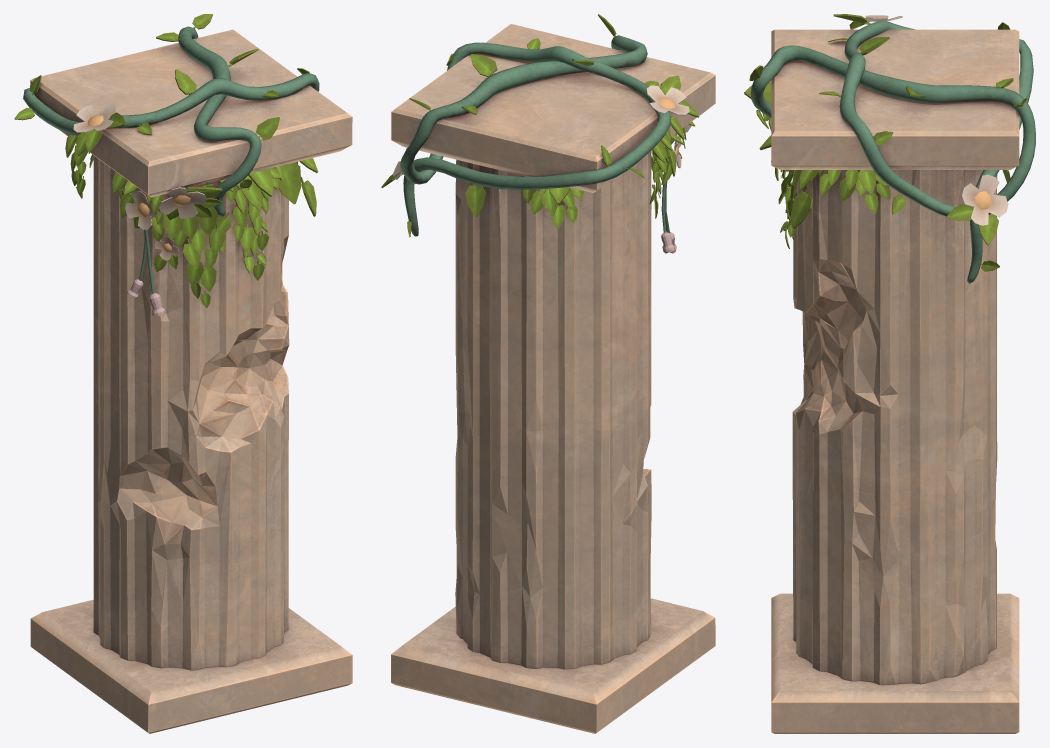
Rendered from pillar3.fbx.
The picture shows the model from 3 angles, left to right: view 1: azimuth 30°, elevation 25°; view 2: azimuth 150°, elevation 25°; view 3: azimuth 270°, elevation 25°; orthographic projection. The views are drawn at different scales.
Visible parts, largest first — view 1: PillarMain, PillarTop, PillarBottom, Leaves, Vine, Flower; view 2: PillarMain, PillarTop, PillarBottom, Vine, Leaves, Flower; view 3: PillarMain, PillarTop, PillarBottom, Vine, Leaves, Flower.
Boxes of the visible parts, box(x1,y1,x2,y2) form: PillarMain: box(93, 155, 289, 670); PillarTop: box(30, 29, 352, 197); PillarBottom: box(30, 599, 352, 733); Leaves: box(14, 14, 318, 307); Vine: box(23, 26, 319, 216); Flower: box(73, 103, 206, 315); PillarMain: box(455, 151, 651, 669); PillarTop: box(391, 24, 715, 192); PillarBottom: box(391, 598, 715, 733); Vine: box(400, 35, 670, 236); Leaves: box(381, 14, 699, 237); Flower: box(393, 85, 691, 253); PillarMain: box(792, 170, 997, 685); PillarTop: box(771, 29, 1019, 169); PillarBottom: box(771, 593, 1019, 733); Vine: box(750, 21, 1035, 283); Leaves: box(744, 14, 1027, 271); Flower: box(770, 15, 1008, 225).
Size of the model in its own units: 33.27 by 73.96 by 30.73.
